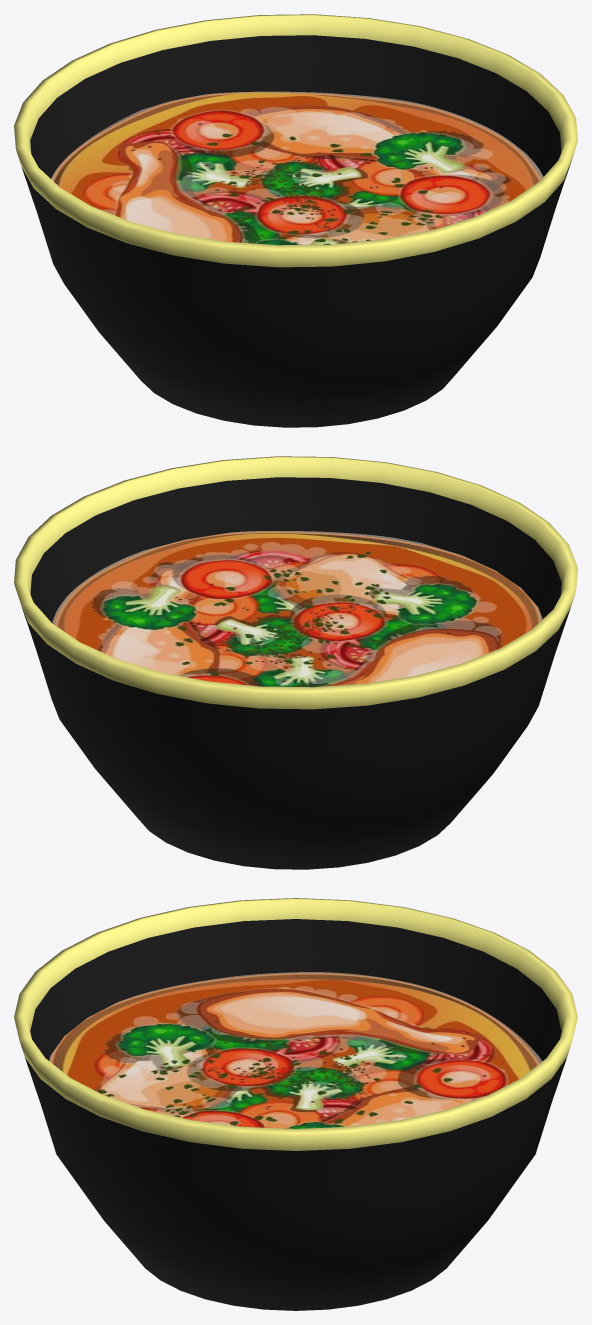
Rendered from bowl 1.fbx.
3 renders of one model, top to bottom at view 1: azimuth 30°, elevation 25°; view 2: azimuth 150°, elevation 25°; view 3: azimuth 270°, elevation 25°, orthographic.
Parts seen in each view (by area): view 1: Sphere, Sphere.001; view 2: Sphere, Sphere.001; view 3: Sphere, Sphere.001.
Part boxes in pixels (x1,y1,x2,y2): Sphere: (14, 14, 577, 427); Sphere.001: (51, 91, 543, 245); Sphere: (14, 456, 577, 869); Sphere.001: (52, 531, 542, 687); Sphere: (14, 898, 577, 1310); Sphere.001: (49, 972, 542, 1128).
Size of the model in its own units: 200 by 89.05 by 200.
